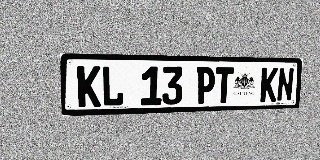1: (141, 66, 162, 106)
3: (162, 66, 183, 105)
K: (77, 66, 101, 107), (260, 67, 278, 102)
L: (101, 66, 124, 107)
N: (276, 68, 294, 102)
P: (196, 67, 215, 104)
T: (215, 67, 234, 103)
